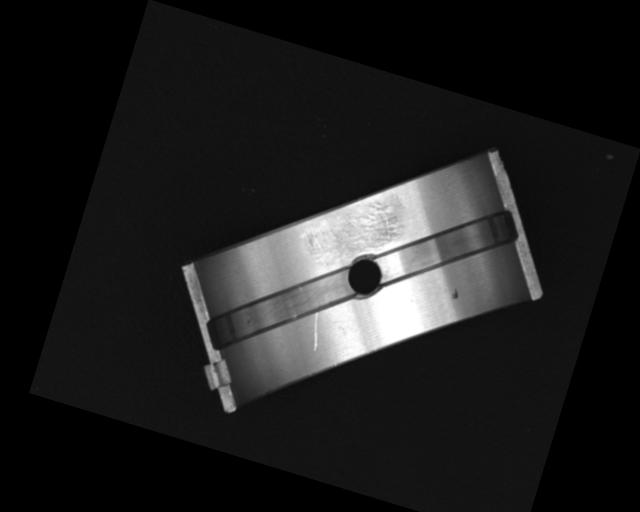bruise: (449, 286, 461, 301)
gap: (204, 241, 363, 377), (373, 182, 523, 312)
hole: (341, 252, 389, 301)
nick: (305, 311, 325, 352)
scratch: (296, 182, 406, 284)
